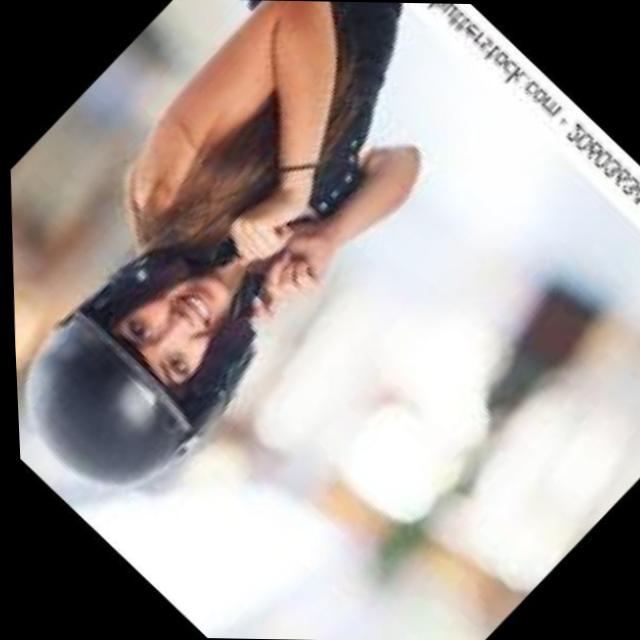WITH_HELMET: (7, 209, 302, 530)
